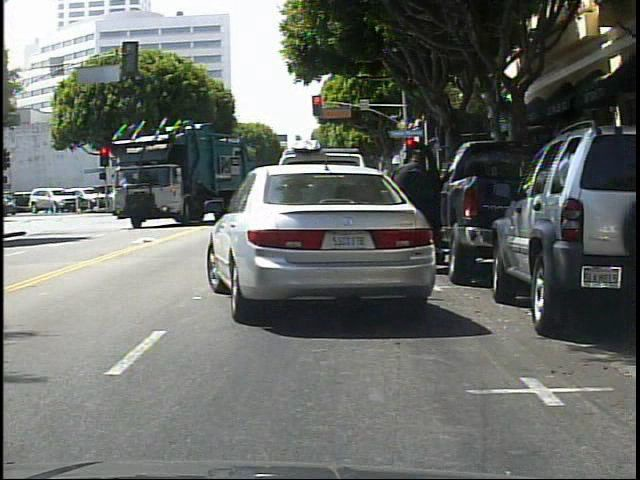person: (389, 145, 449, 283)
